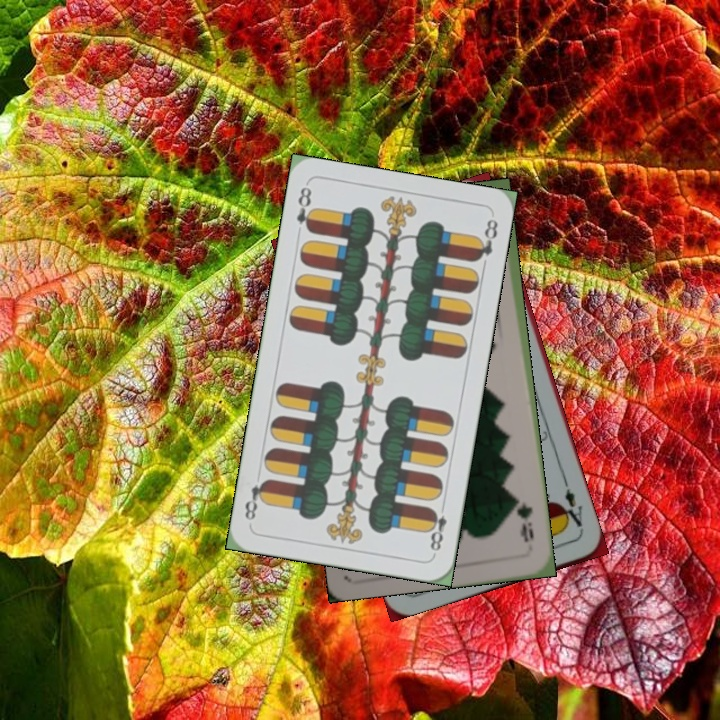E8: (424, 498, 449, 557), (292, 183, 318, 236)
EA: (556, 477, 586, 535)
G9: (511, 494, 536, 545)
